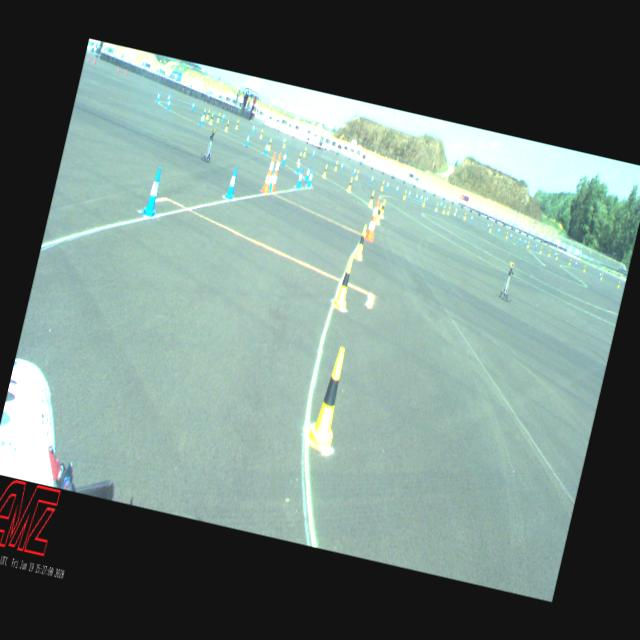blue_cone: (140, 165, 166, 217), (224, 166, 240, 198), (268, 168, 276, 192), (296, 168, 304, 188), (304, 164, 312, 182), (306, 168, 314, 186), (280, 150, 288, 166), (294, 158, 301, 174), (198, 113, 205, 126), (263, 140, 269, 154), (244, 133, 250, 146), (166, 98, 172, 110), (190, 101, 196, 111), (156, 91, 160, 103), (369, 174, 374, 183), (352, 167, 357, 176), (339, 162, 344, 170), (496, 226, 501, 234), (394, 184, 398, 193), (222, 112, 226, 121), (385, 180, 389, 189), (312, 149, 316, 157), (167, 92, 170, 102), (518, 235, 522, 242), (486, 222, 490, 229), (598, 271, 602, 278), (408, 189, 411, 198), (415, 192, 418, 201), (534, 242, 538, 248), (439, 200, 442, 208), (252, 124, 255, 132), (282, 136, 285, 144), (554, 250, 557, 258), (425, 195, 428, 202), (419, 194, 422, 201), (420, 194, 423, 201), (574, 260, 577, 266), (470, 214, 472, 222), (524, 237, 526, 245), (510, 232, 512, 240), (455, 208, 457, 214)
large_orange_cone: (260, 152, 278, 194), (364, 197, 381, 241), (368, 196, 382, 239), (270, 152, 284, 192)
unknown_cone: (92, 58, 96, 64), (116, 66, 120, 72), (88, 55, 91, 62), (124, 69, 127, 76)
yellow_cone: (306, 344, 352, 452), (332, 255, 357, 310), (354, 224, 368, 260), (375, 202, 383, 225), (367, 190, 375, 207), (346, 176, 354, 192), (379, 200, 386, 218), (296, 151, 302, 164), (322, 164, 328, 176), (266, 138, 272, 150), (208, 112, 214, 124), (224, 120, 230, 131), (421, 197, 426, 207), (402, 190, 407, 200), (216, 112, 221, 122), (202, 108, 206, 120), (380, 180, 384, 191), (355, 169, 359, 179), (206, 109, 210, 119), (302, 146, 306, 156), (434, 202, 438, 212), (462, 212, 467, 220), (282, 138, 286, 148), (442, 204, 446, 213), (260, 129, 264, 138), (334, 161, 338, 170), (235, 120, 239, 129), (488, 224, 492, 232), (526, 240, 530, 248), (446, 206, 450, 214), (554, 252, 558, 260), (547, 249, 551, 257), (582, 264, 586, 272), (538, 246, 542, 253), (600, 272, 604, 279), (616, 280, 620, 287), (505, 231, 508, 239), (568, 258, 571, 266), (454, 208, 456, 215)
